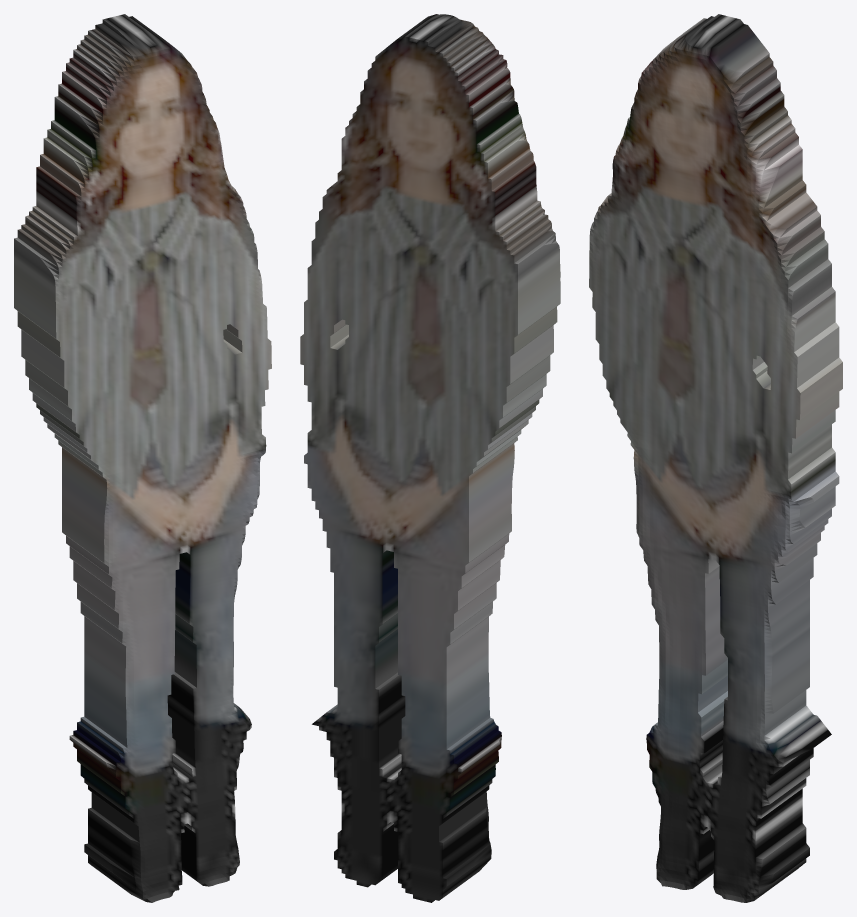
File: avatar_213917.glb
3 renders of one model, left to right at view 1: azimuth 30°, elevation 25°; view 2: azimuth 150°, elevation 25°; view 3: azimuth 330°, elevation 25°, orthographic. The views are drawn at different scales.
Parts seen in each view (by area): view 1: world; view 2: world; view 3: world.
Part boxes in pixels (bbox=[...]): world: bbox=[14, 14, 271, 902]; world: bbox=[300, 14, 560, 902]; world: bbox=[589, 14, 842, 902].
Bounding box in the file's own units: 11.02 × 41.61 × 4.74.
